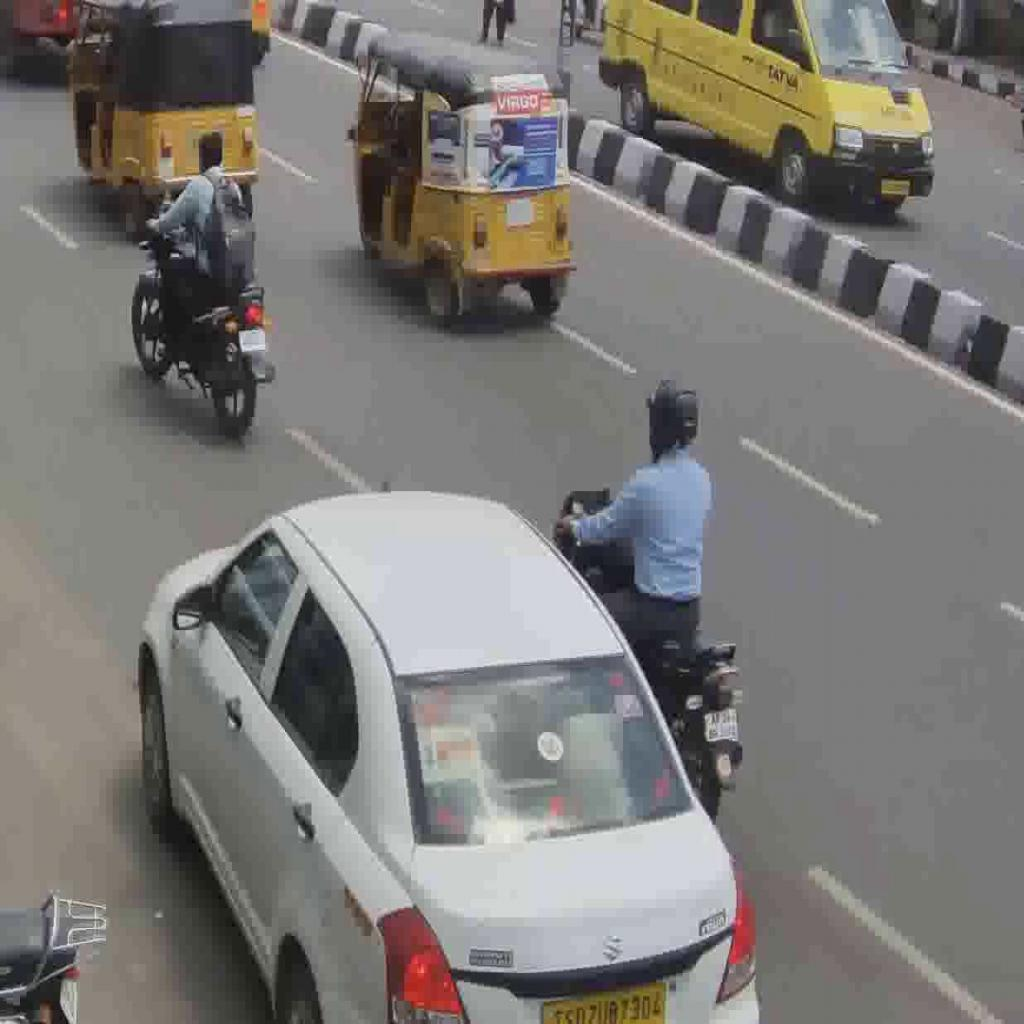helmet: (552, 485, 744, 823), (130, 203, 275, 440)
